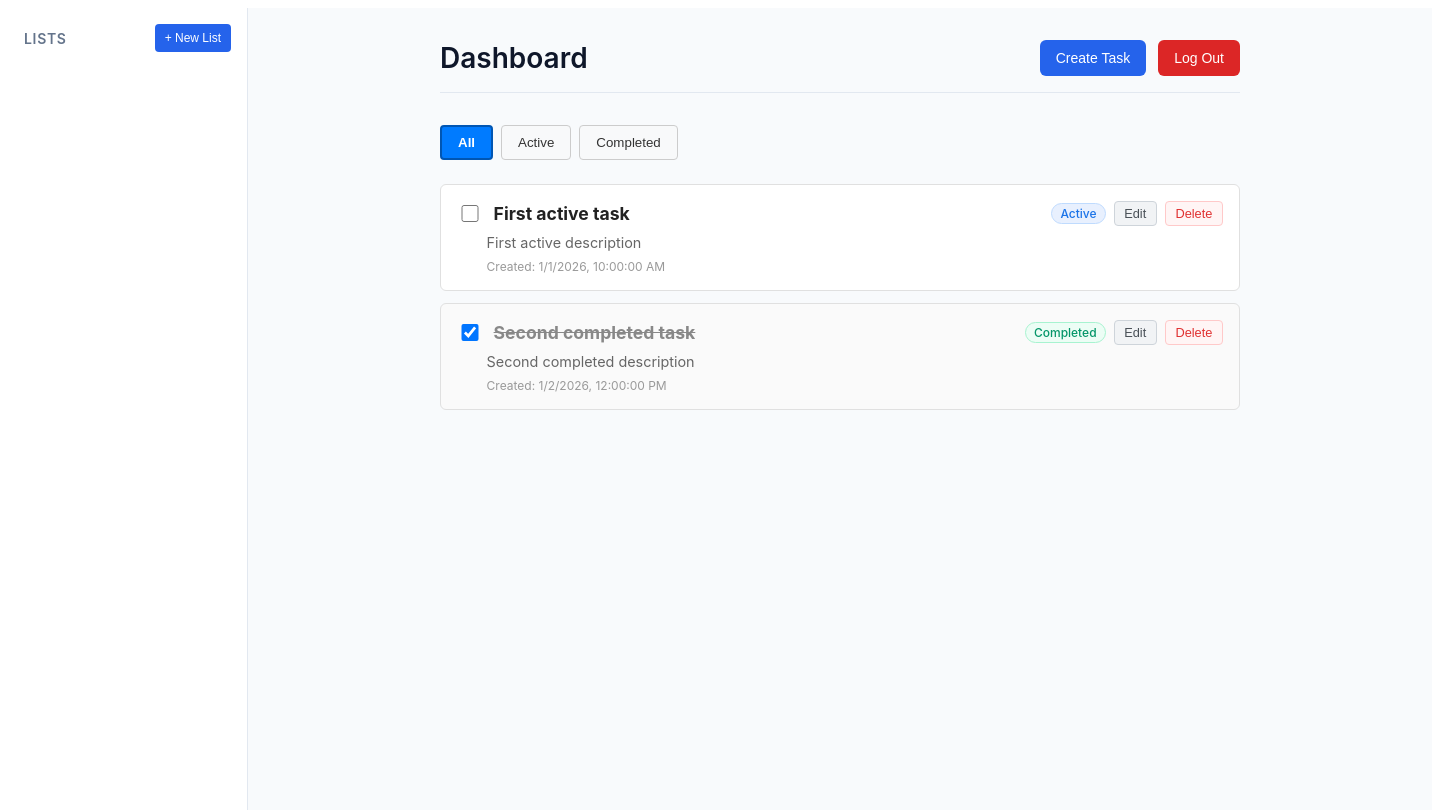
it: Task Creation and Completion Toggle (T3 / R3 & R4) › opens CreateTaskModal, submits valid task via POST /todos, closes modal, and prepends task to dashboard
This screenshot has width=1440, height=810.
Expected: the heading "First active task" is shown, [494,203,630,224]
# Click "Create Task" button to open modal
Click the button "Create Task" at (1093, 58), box [1040,40,1146,76]
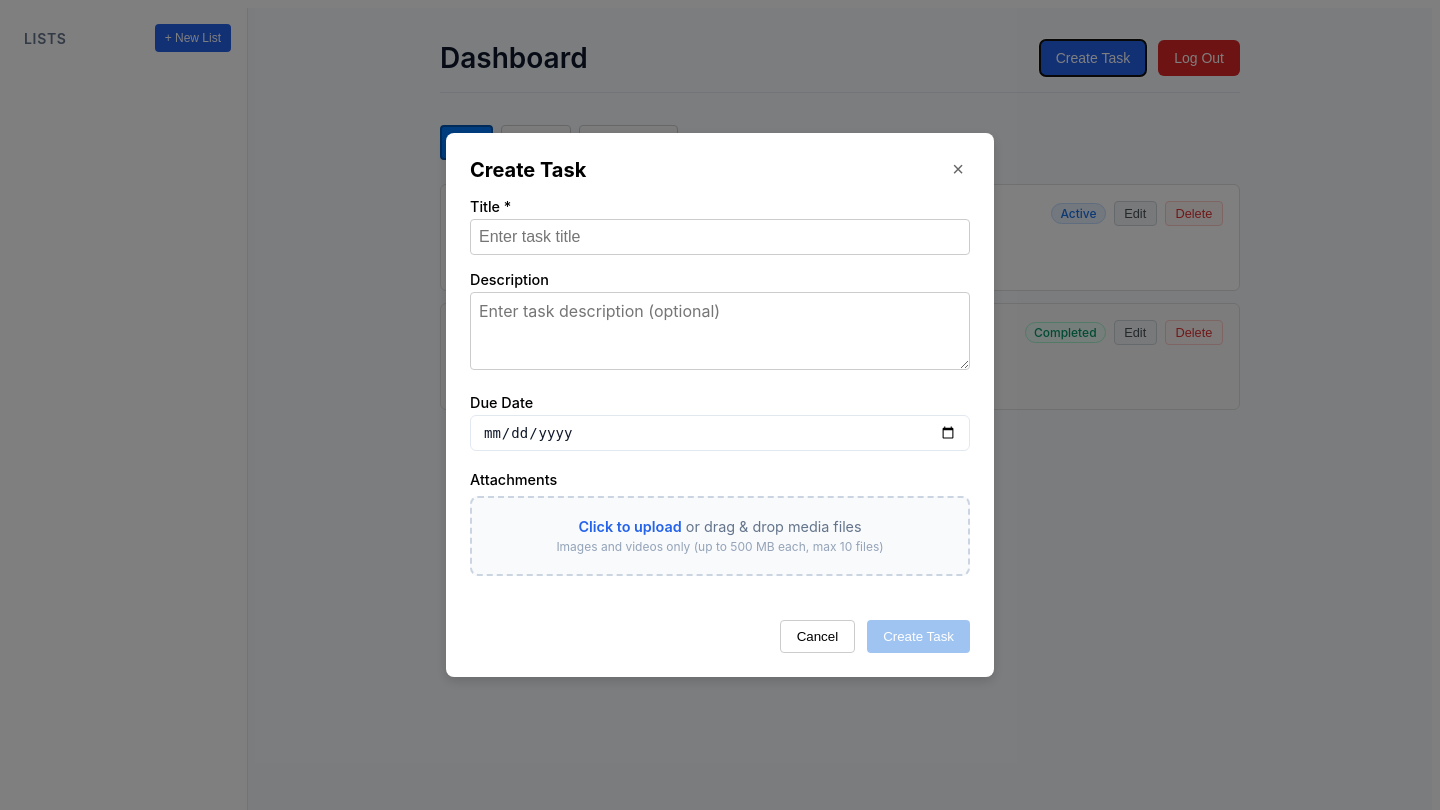
Expected: the heading "Create Task" is shown, [470,158,586,182]
# Enter valid task information
Type "New Unique Task Title" into the field labelled "Title *" at (720, 237), box [470,219,970,255]
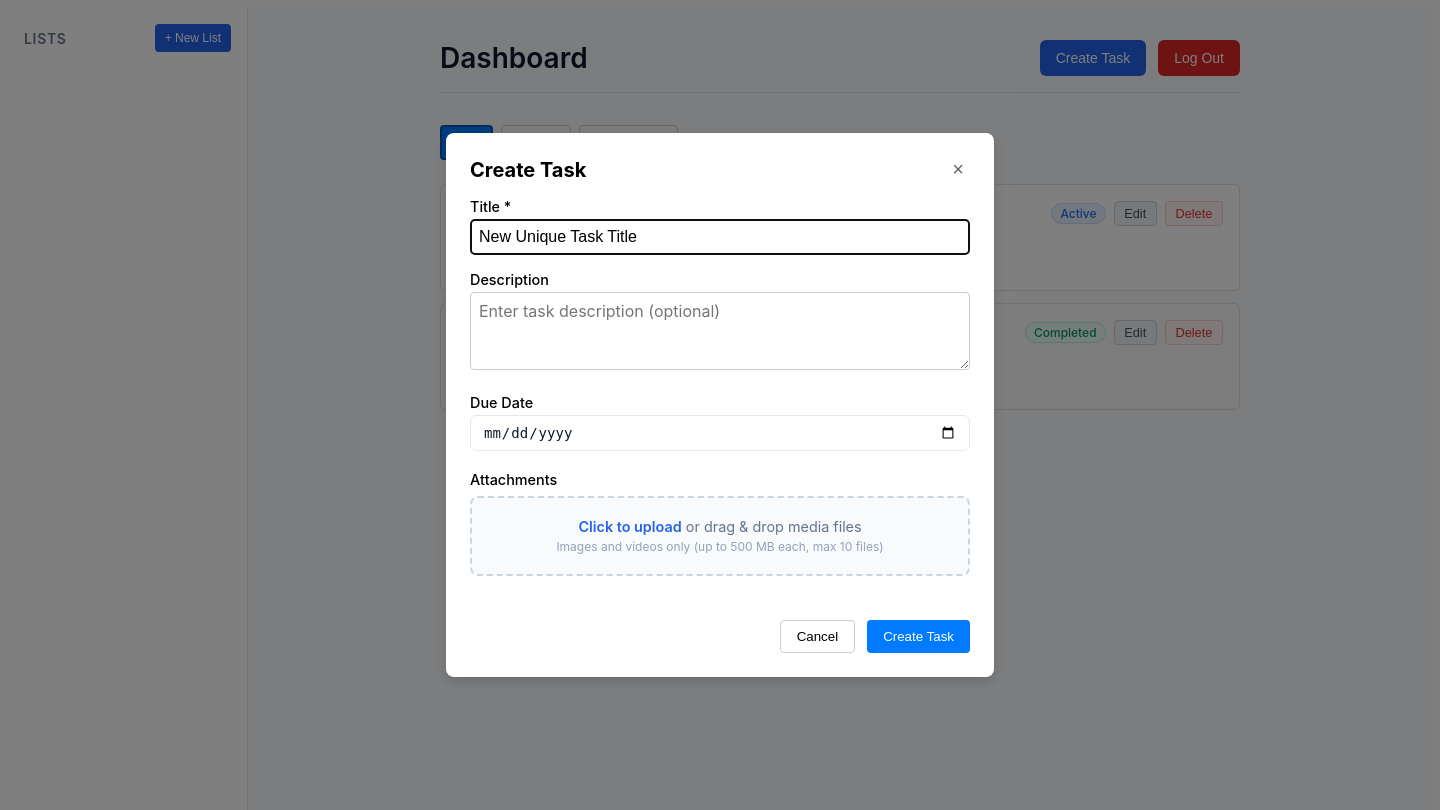
Type "A helpful description" into the text box labelled "Description" at (720, 331), box [470,292,970,370]
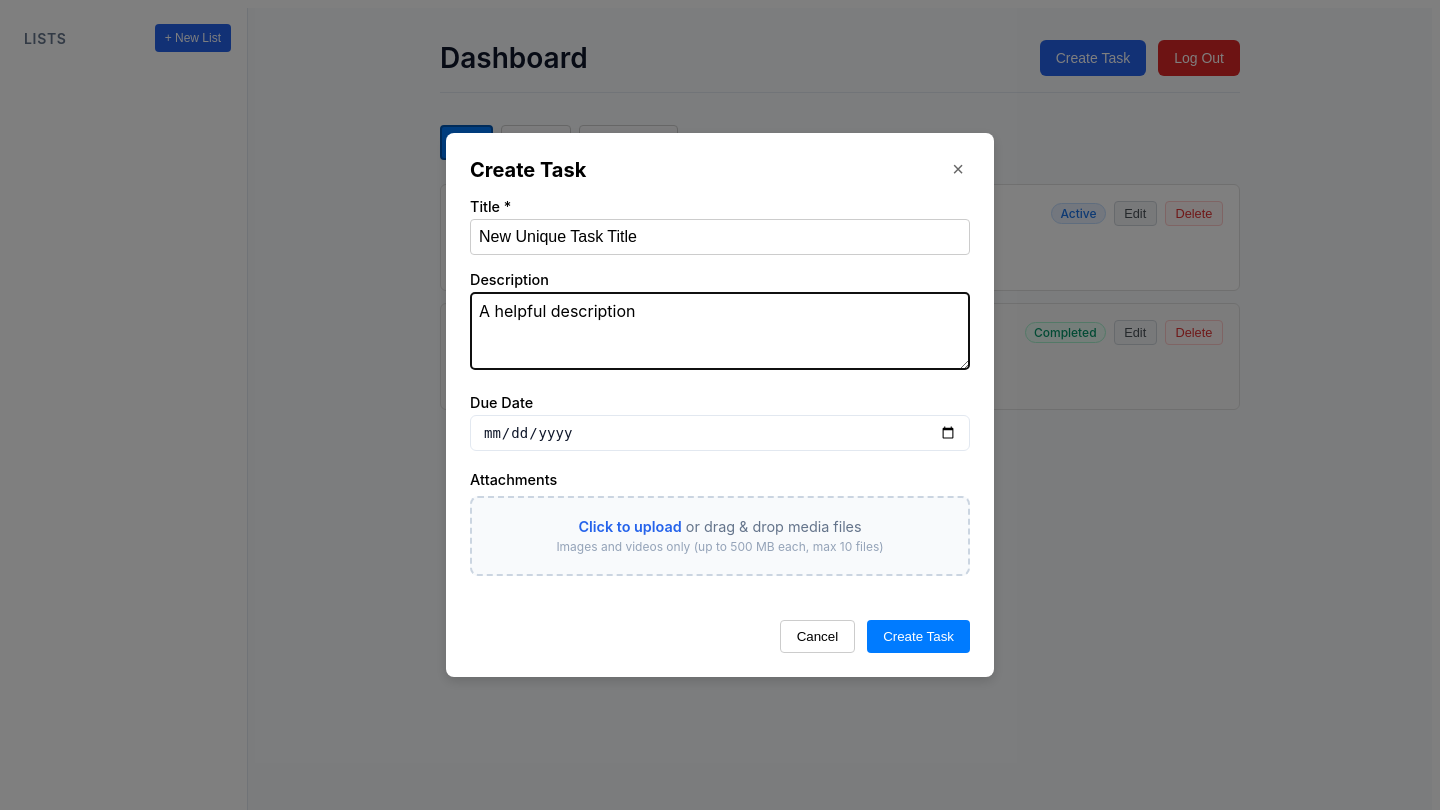
Click the button "Create Task" at (919, 636), box [867,620,970,653]
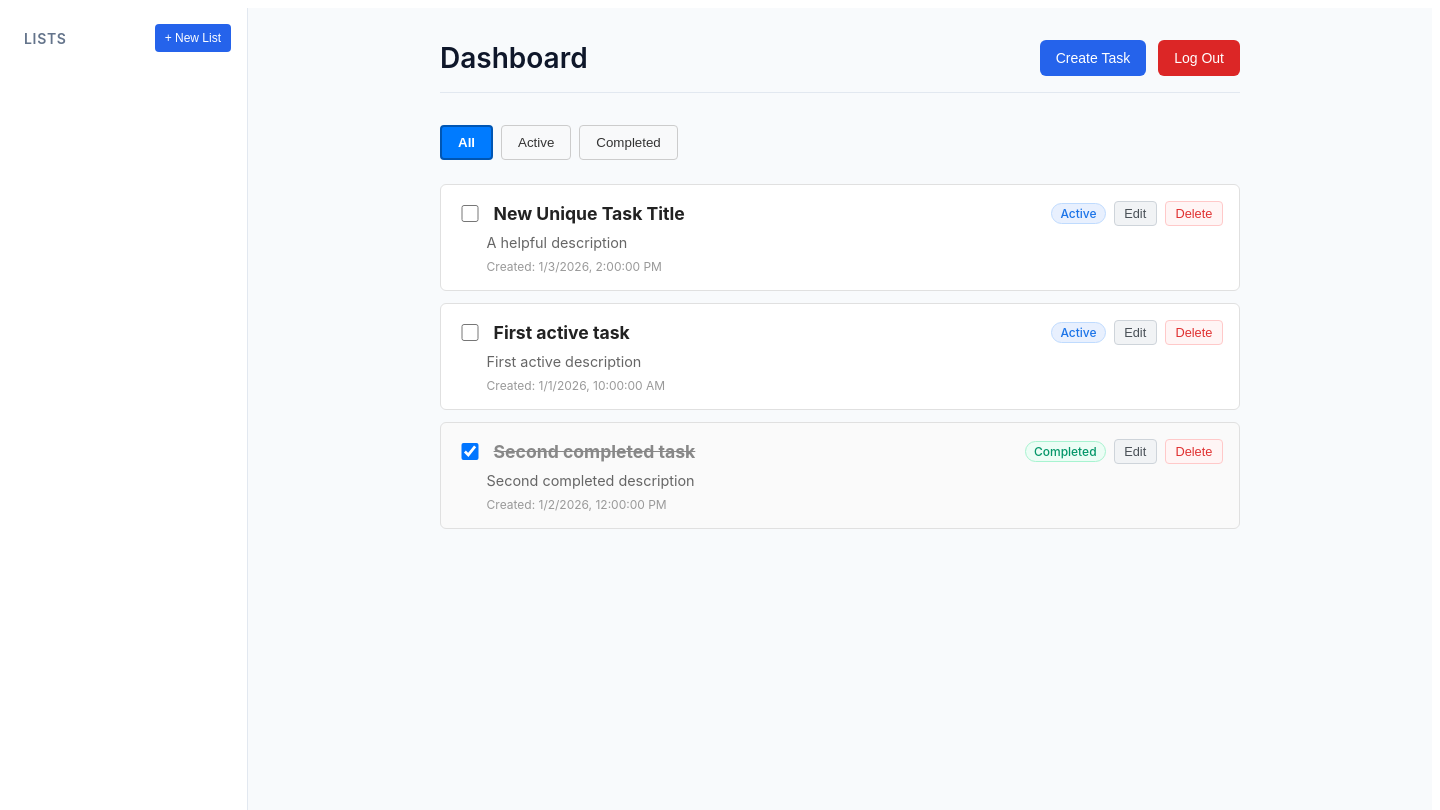
Expected: the heading "New Unique Task Title" is shown, [494,203,685,224]
Expected: the text "A helpful description" is shown, [487,234,627,251]
